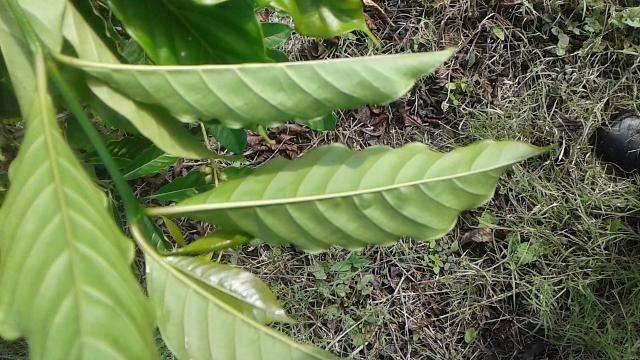healthy: (171, 132, 564, 255)
